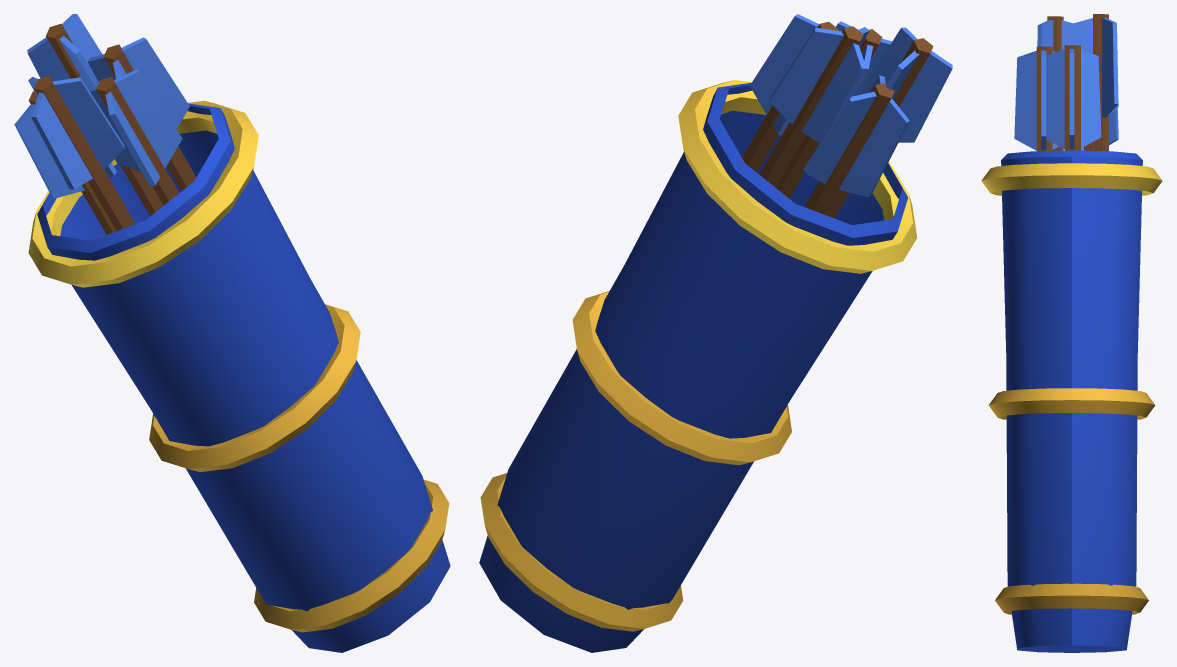
The model's file is Prop_RoyalQuiver.fbx.
3 views of the same model, side by side, from view 1: azimuth 30°, elevation 25°; view 2: azimuth 150°, elevation 25°; view 3: azimuth 270°, elevation 25° (orthographic). The views are drawn at different scales.
Visible parts, largest first — view 1: RoyalQuiver; view 2: RoyalQuiver; view 3: RoyalQuiver.
Boxes of the visible parts, x1,y1,x2,y2 form: RoyalQuiver: (14, 14, 450, 652); RoyalQuiver: (479, 14, 952, 652); RoyalQuiver: (981, 14, 1162, 652).
Bounding box in the file's own units: 0.2504 × 0.371 × 0.1113.
